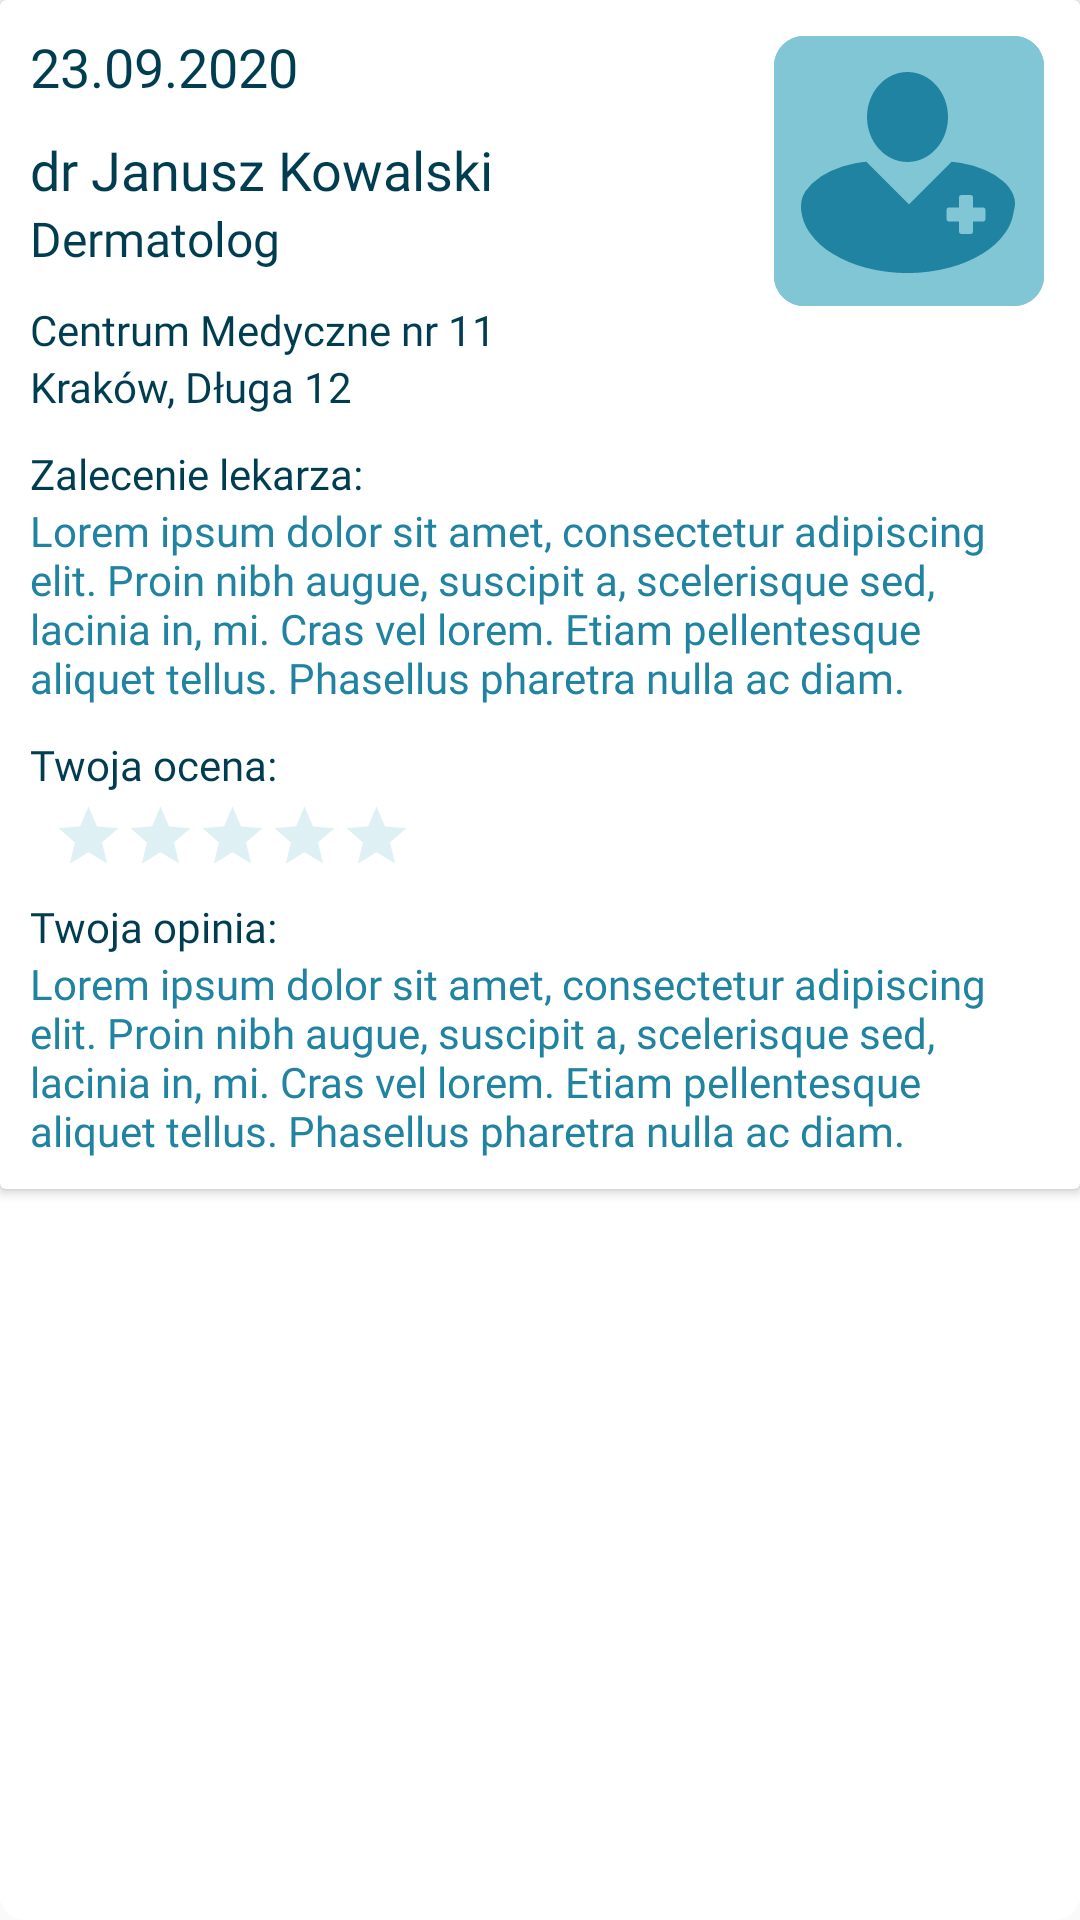

Locate icon controls on the screen. Image size 1080px x 1920px, boxes as detection(x1, y1, x2, y2).
profile pic: detection(774, 36, 1044, 306)
